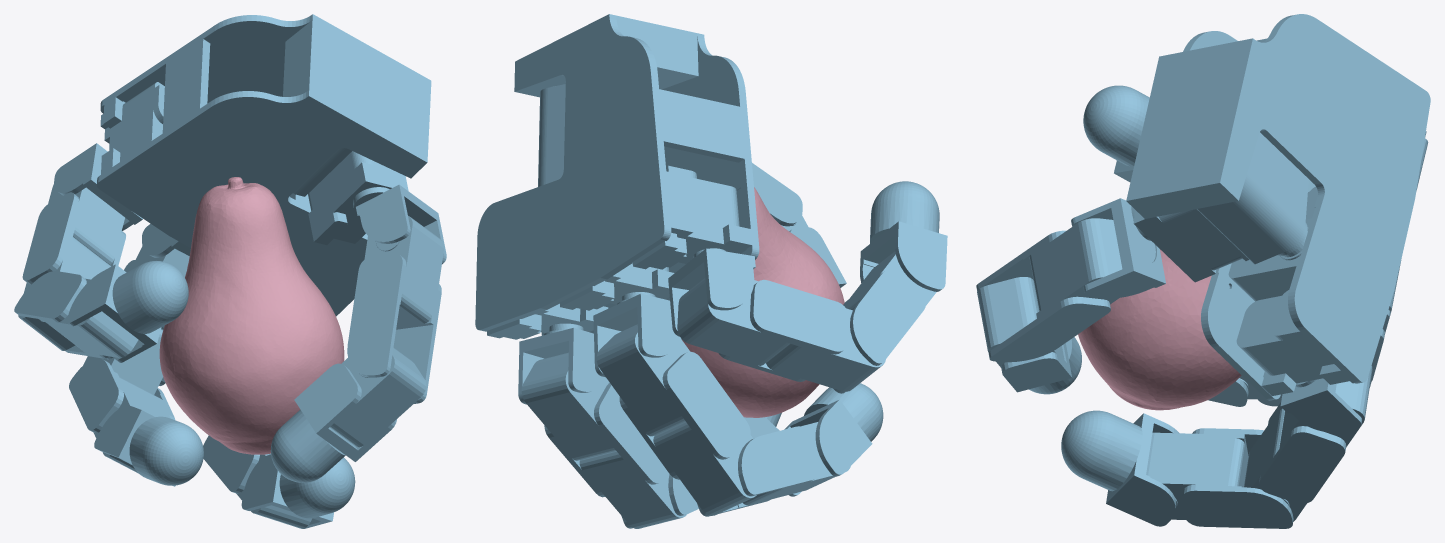
The picture shows the model from 3 angles, left to right: view 1: azimuth 30°, elevation 25°; view 2: azimuth 150°, elevation 25°; view 3: azimuth 270°, elevation 25°; orthographic projection. The views are drawn at different scales.
Visible parts, largest first — view 1: world, pear.stl; view 2: world, pear.stl; view 3: world, pear.stl.
Boxes of the visible parts, x1=… form: world: x1=14, y1=14, x2=446, y2=528; pear.stl: x1=159, y1=177, x2=344, y2=454; world: x1=475, y1=14, x2=947, y2=528; pear.stl: x1=681, y1=187, x2=844, y2=417; world: x1=976, y1=14, x2=1430, y2=528; pear.stl: x1=1078, y1=249, x2=1241, y2=410.
Bounding box in the file's own units: 0.1643 × 0.1926 × 0.1536.
